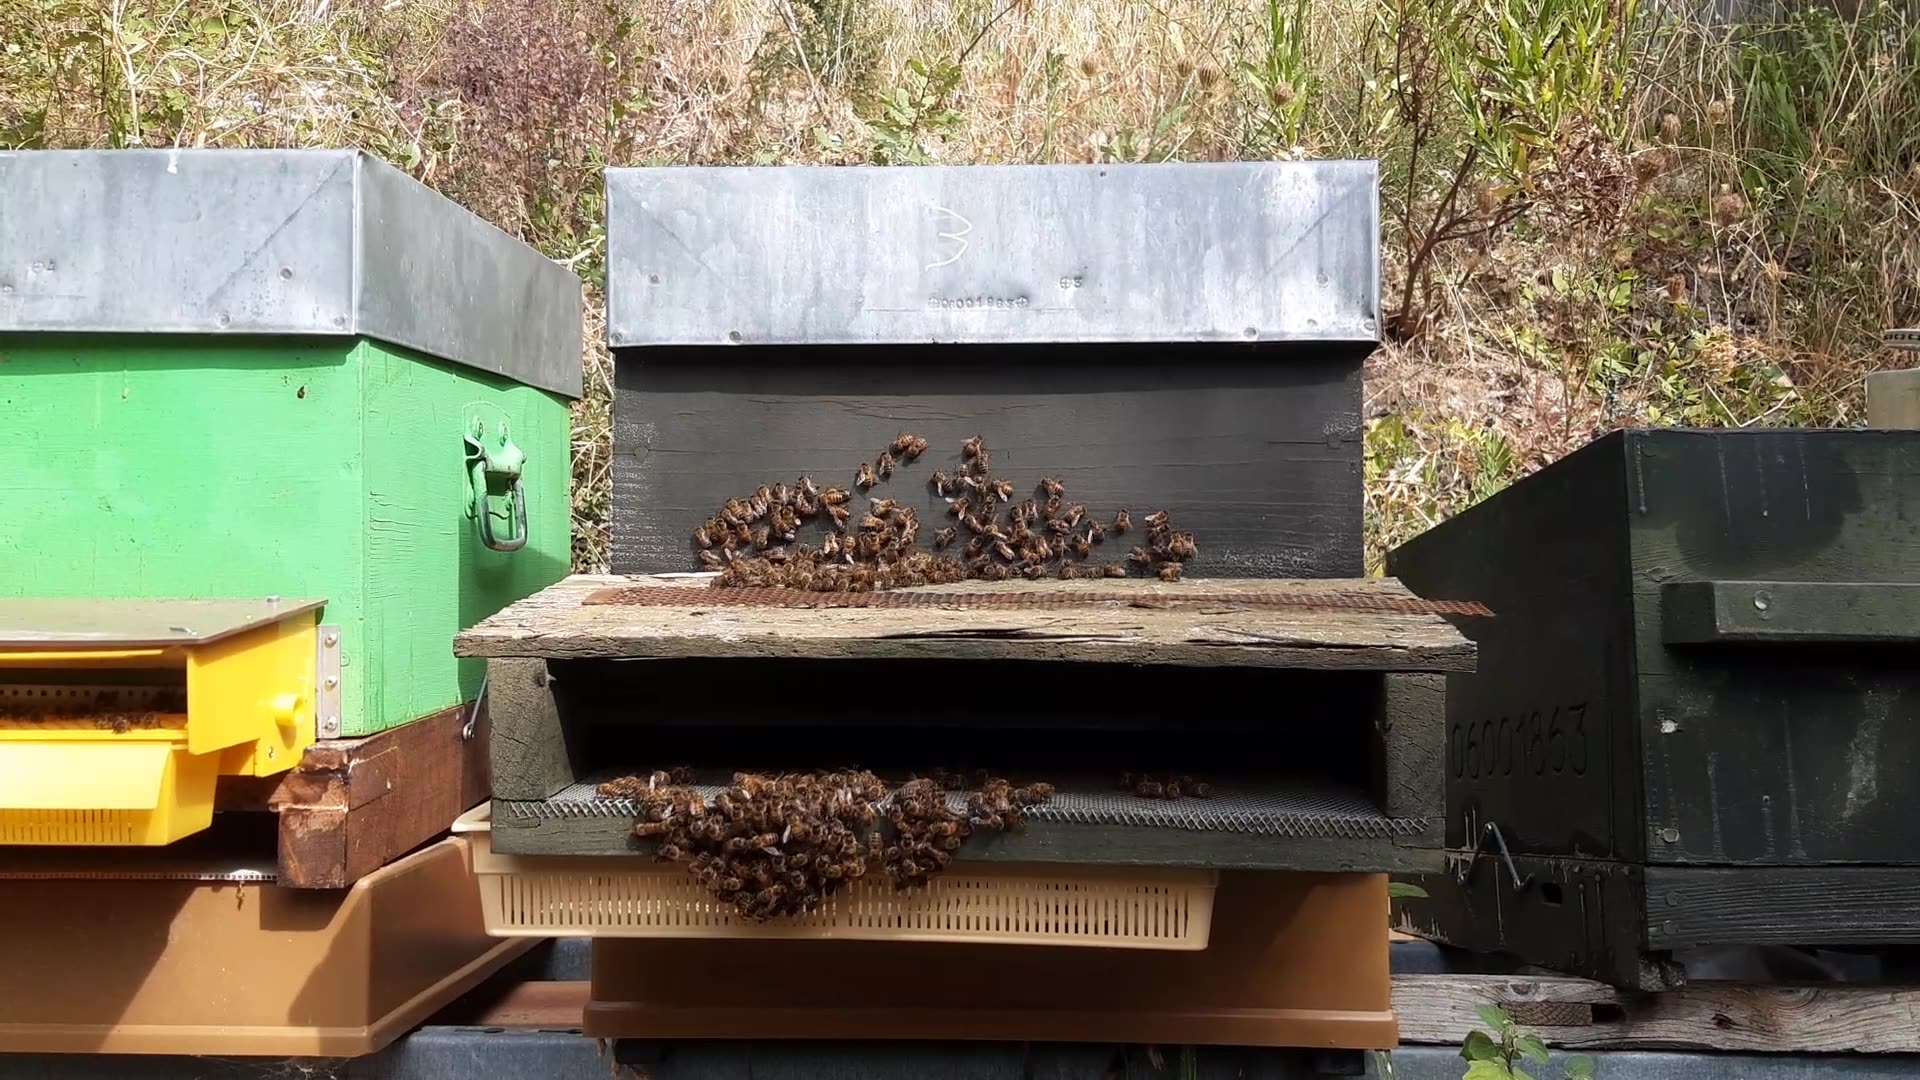bee: (596, 781, 694, 845), (729, 868, 810, 939), (1108, 512, 1191, 575), (735, 786, 811, 855), (952, 513, 1023, 584), (847, 512, 913, 571), (1013, 506, 1077, 560), (931, 462, 997, 513), (723, 514, 799, 558), (1371, 302, 1425, 357), (756, 487, 818, 527), (1006, 491, 1055, 533)
